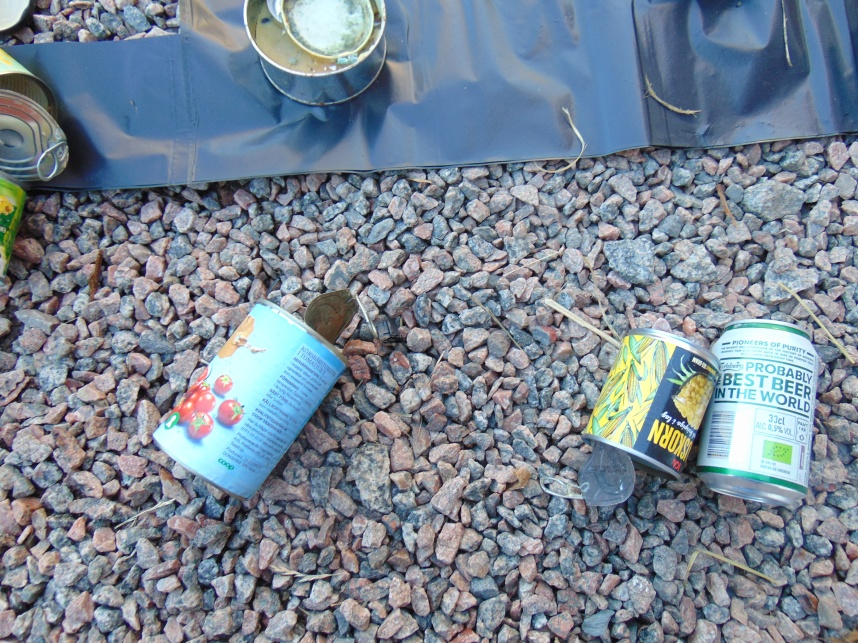metal: (1, 89, 69, 181), (279, 1, 374, 62), (1, 1, 34, 35)
metal_can: (154, 296, 348, 501), (698, 318, 821, 509), (580, 326, 720, 484), (242, 1, 388, 106), (1, 41, 57, 122)
